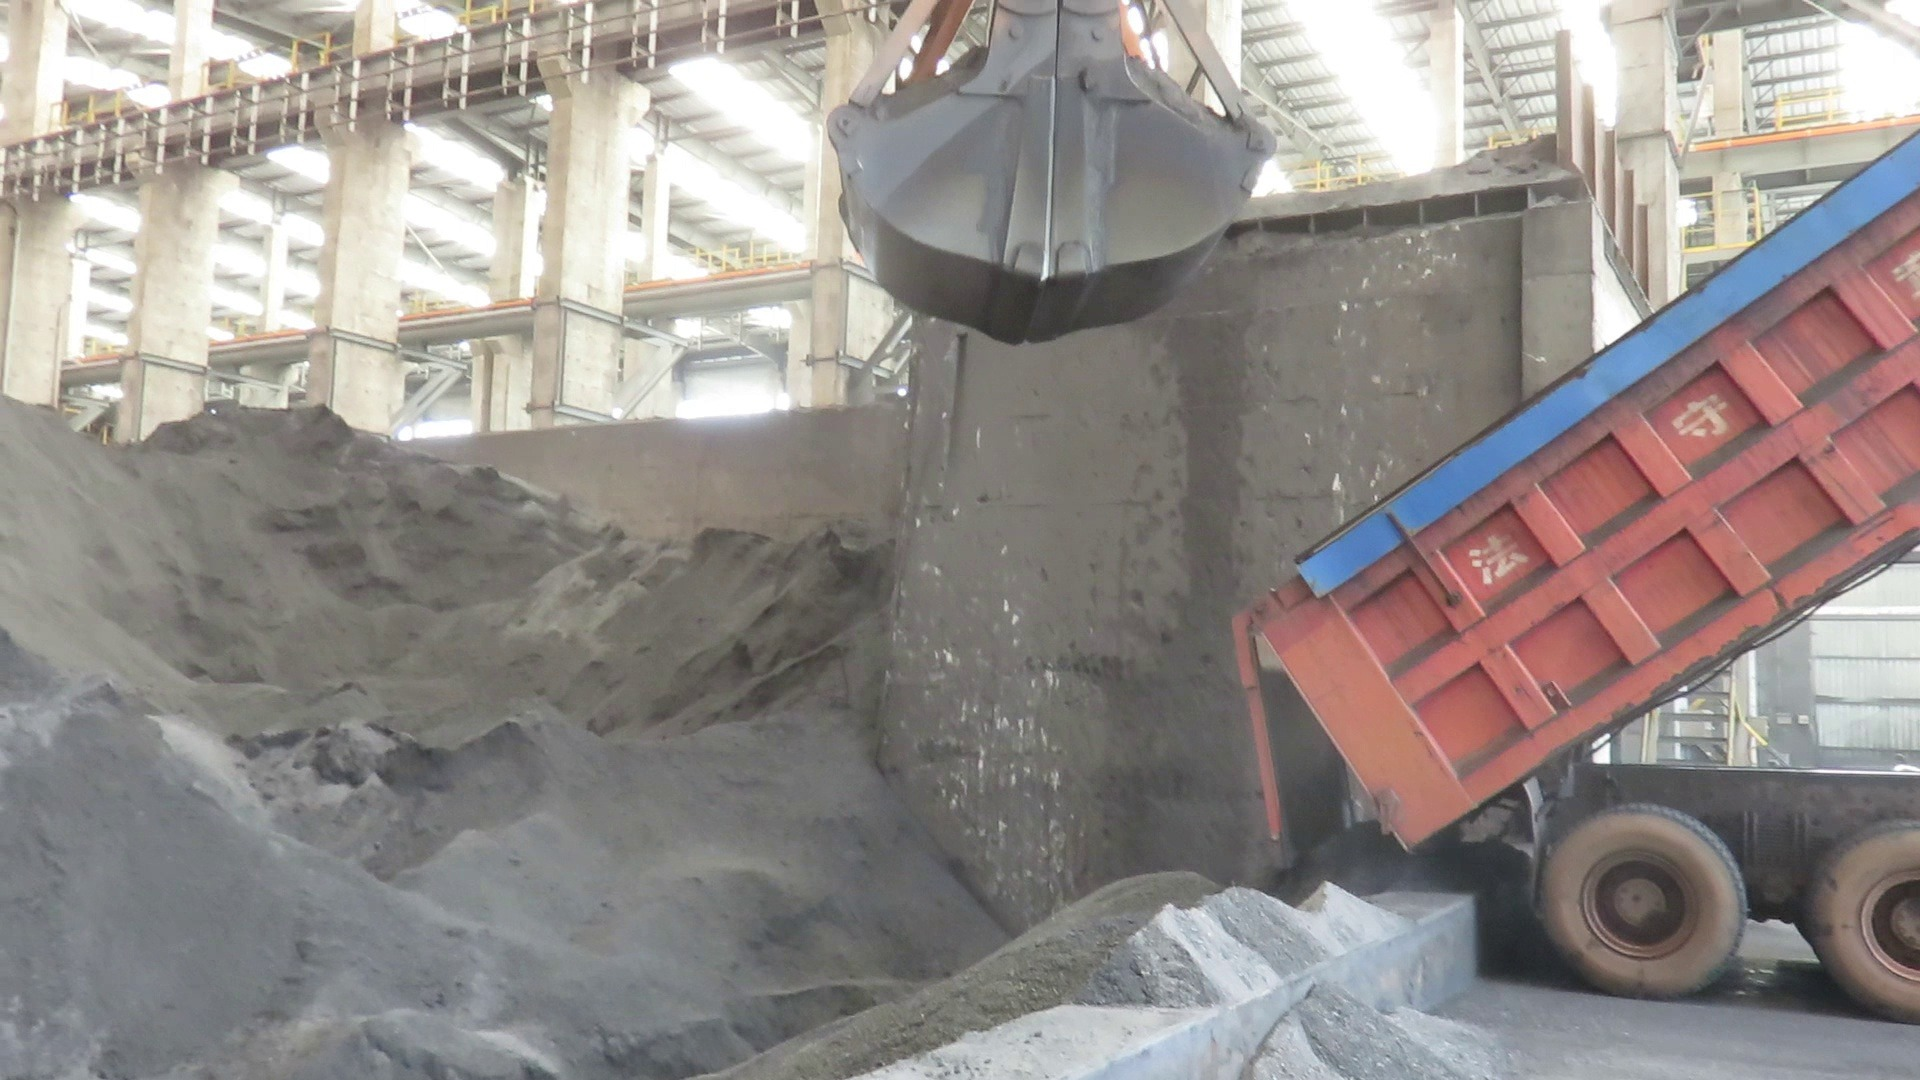grab: (819, 0, 1274, 352)
truck: (1174, 121, 1920, 1033)
